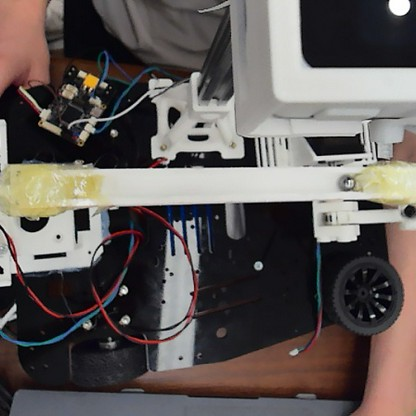ironball: (337, 172, 355, 190)
